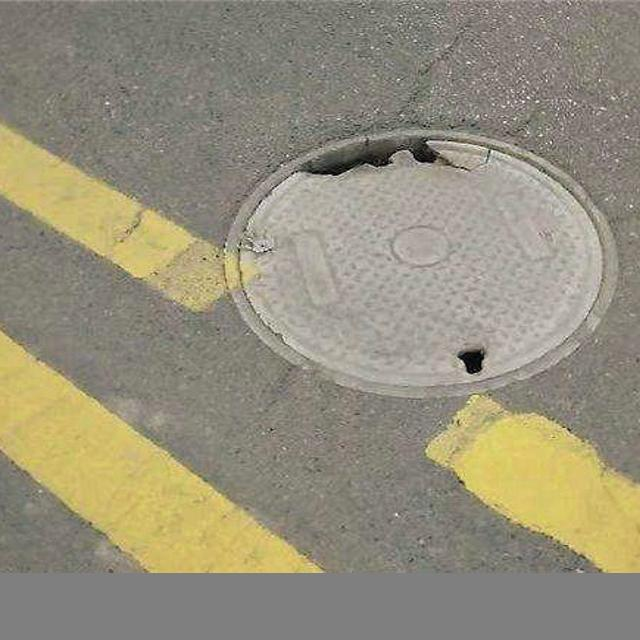broke: (225, 128, 618, 398)
